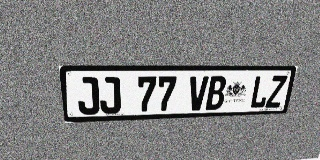7: (136, 76, 157, 113), (156, 76, 177, 112)
B: (205, 76, 227, 110)
J: (76, 77, 100, 115), (99, 77, 121, 114)
L: (249, 76, 271, 108)
V: (187, 76, 209, 111)
Z: (265, 75, 288, 108)
